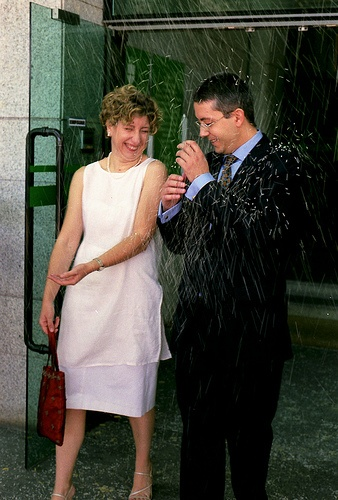head: (190, 68, 257, 156), (103, 88, 157, 162)
person: (156, 69, 322, 495), (36, 84, 173, 500)
